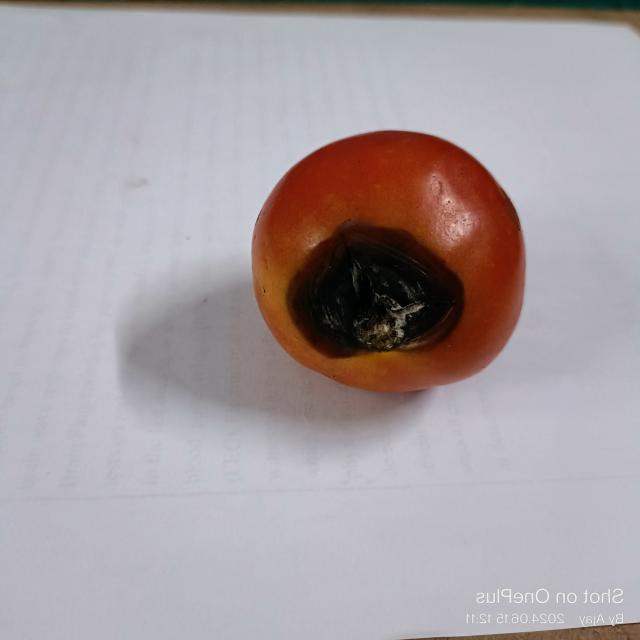Anthrocnose: (292, 220, 466, 359)
